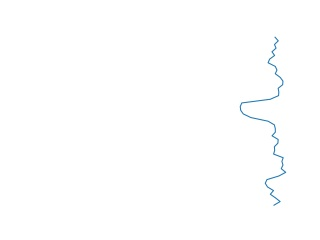interdistributaryEstuary: (235, 35, 292, 207)
